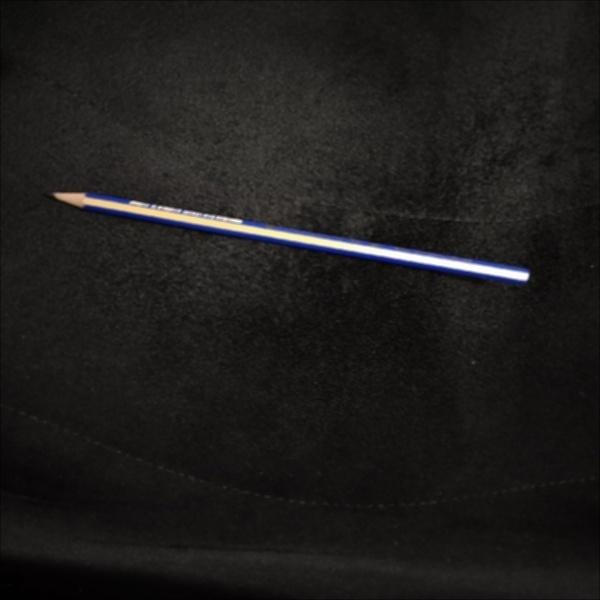pencil: (41, 178, 533, 295)
